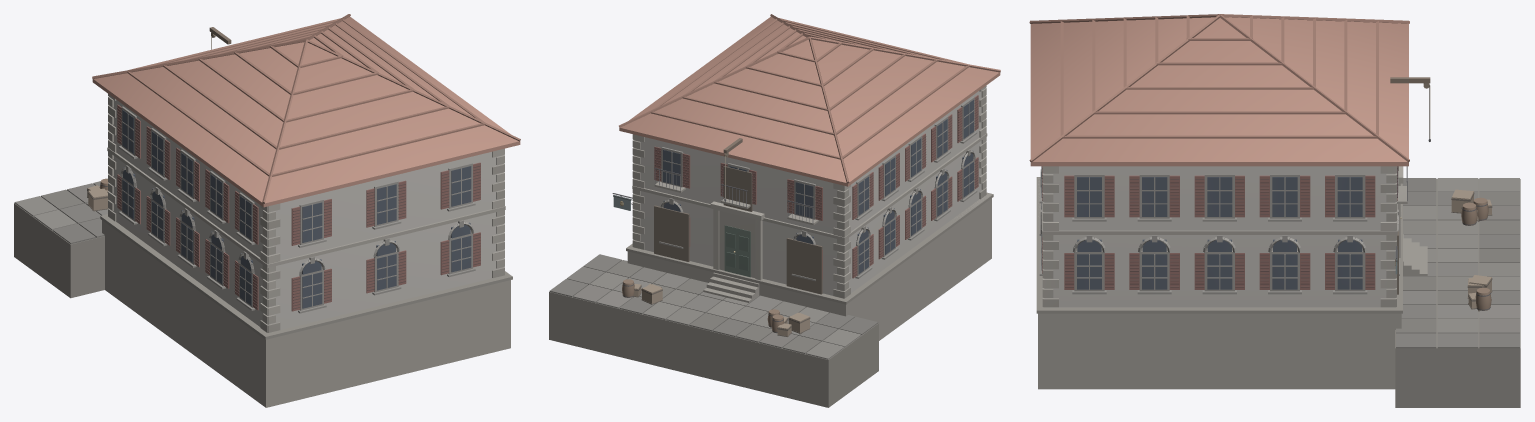
Rendered from storage_4.gltf.
3 views of the same model, side by side, from view 1: azimuth 30°, elevation 25°; view 2: azimuth 150°, elevation 25°; view 3: azimuth 270°, elevation 25° (orthographic). The views are drawn at different scales.
Visible parts, largest first — view 1: Body; view 2: Body; view 3: Body.
Boxes of the visible parts, box(x1,y1,x2,y2) form: Body: box(14, 14, 520, 407); Body: box(549, 14, 1000, 407); Body: box(1029, 14, 1520, 407).
Bounding box in the file's own units: 16 × 13.61 × 19.6.
